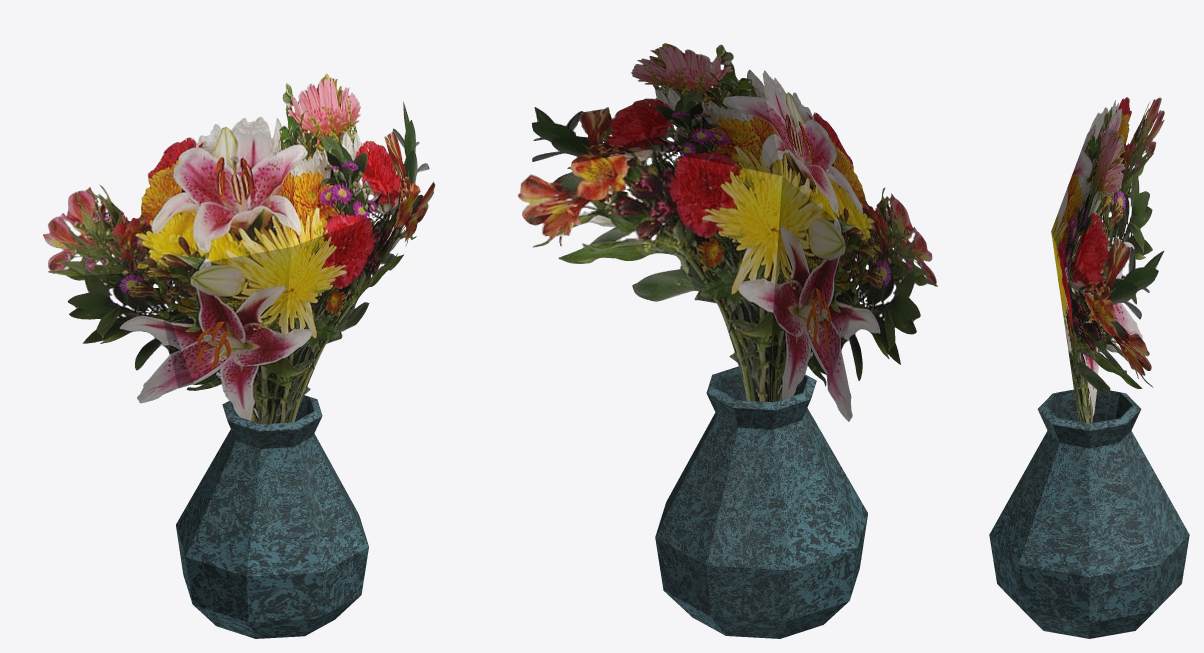
The model's file is FlowerVase.obj.
3 renders of one model, left to right at view 1: azimuth 30°, elevation 25°; view 2: azimuth 150°, elevation 25°; view 3: azimuth 270°, elevation 25°, orthographic. The views are drawn at different scales.
Visible parts, largest first — view 1: flowers; view 2: flowers; view 3: flowers.
Part boxes in pixels (bbox=[...]): flowers: bbox=[43, 73, 435, 638]; flowers: bbox=[517, 43, 937, 638]; flowers: bbox=[989, 97, 1189, 638].
Bounding box in the file's own units: 7.78 × 9.23 × 3.08.
1 material, 1 textured.
